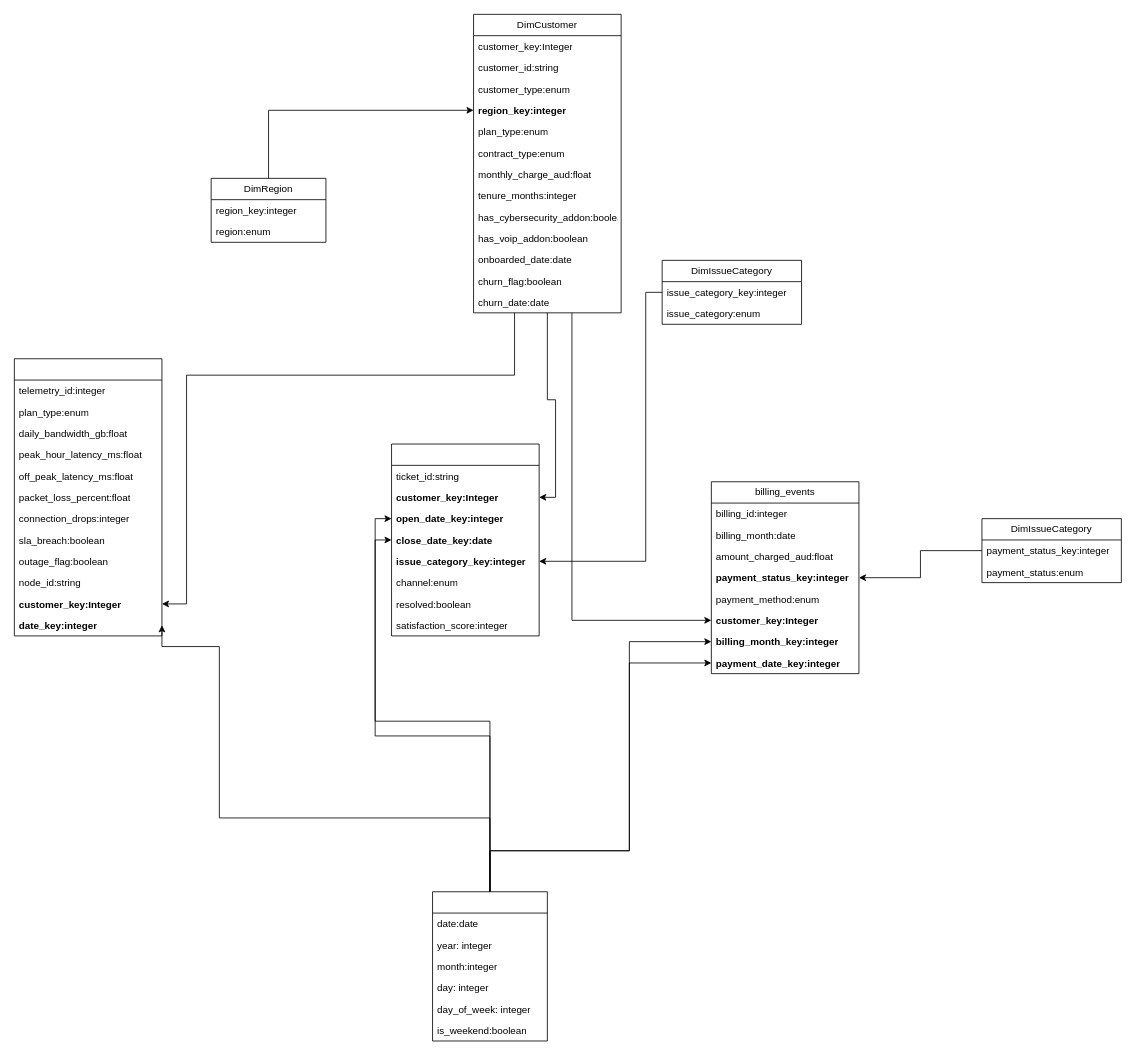
Some shapes in this 1136 by 1058 pixel diagram are drawn without their labels. The shapes that lost their labels are listed below. From the top down, each one's box as (x1, y1, x2, y2) in pixels, then its label:
(14, 358, 162, 636): FactTelemetry
(391, 443, 539, 636): support_tickets
(432, 891, 547, 1041): DimDate
